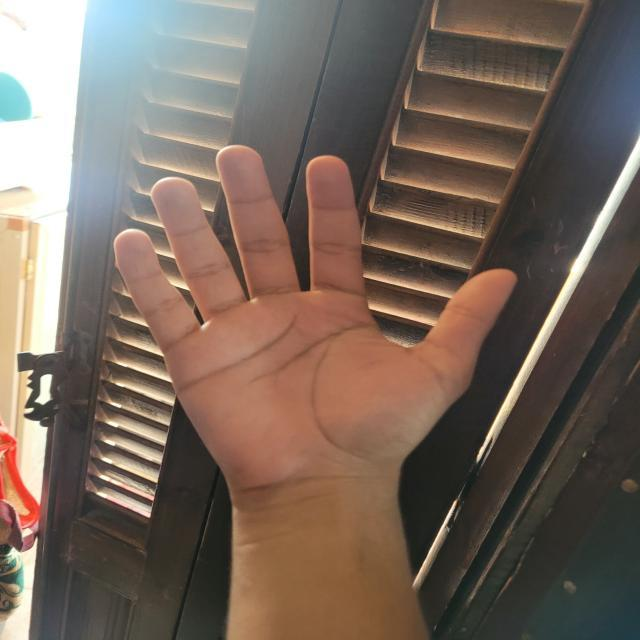Open Hand: (112, 145, 519, 492)
